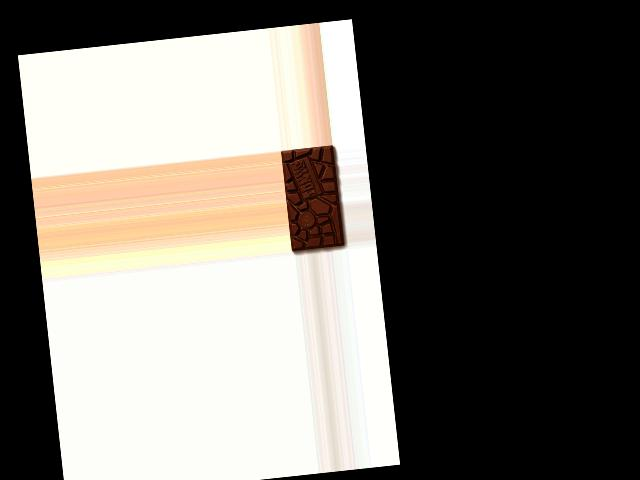chocolate: (281, 144, 347, 252)
